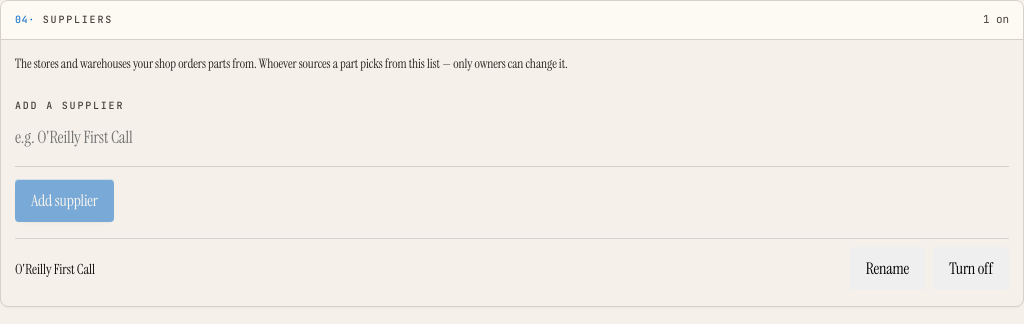
Scenario: SuppliersSection › turns a supplier off with the exact concurrency token and flips the row
Click the button "Turn off" at x=971, y=269, box [933, 247, 1009, 290]
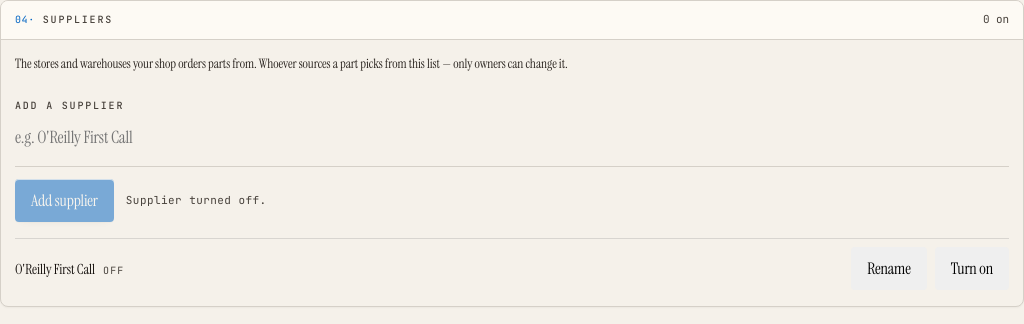
Check: the text "Supplier turned off." is shown, box [126, 193, 267, 208]
Check: the button "Turn on" is shown, box [935, 247, 1009, 290]
Check: the text "off" is shown, box [103, 264, 125, 277]
